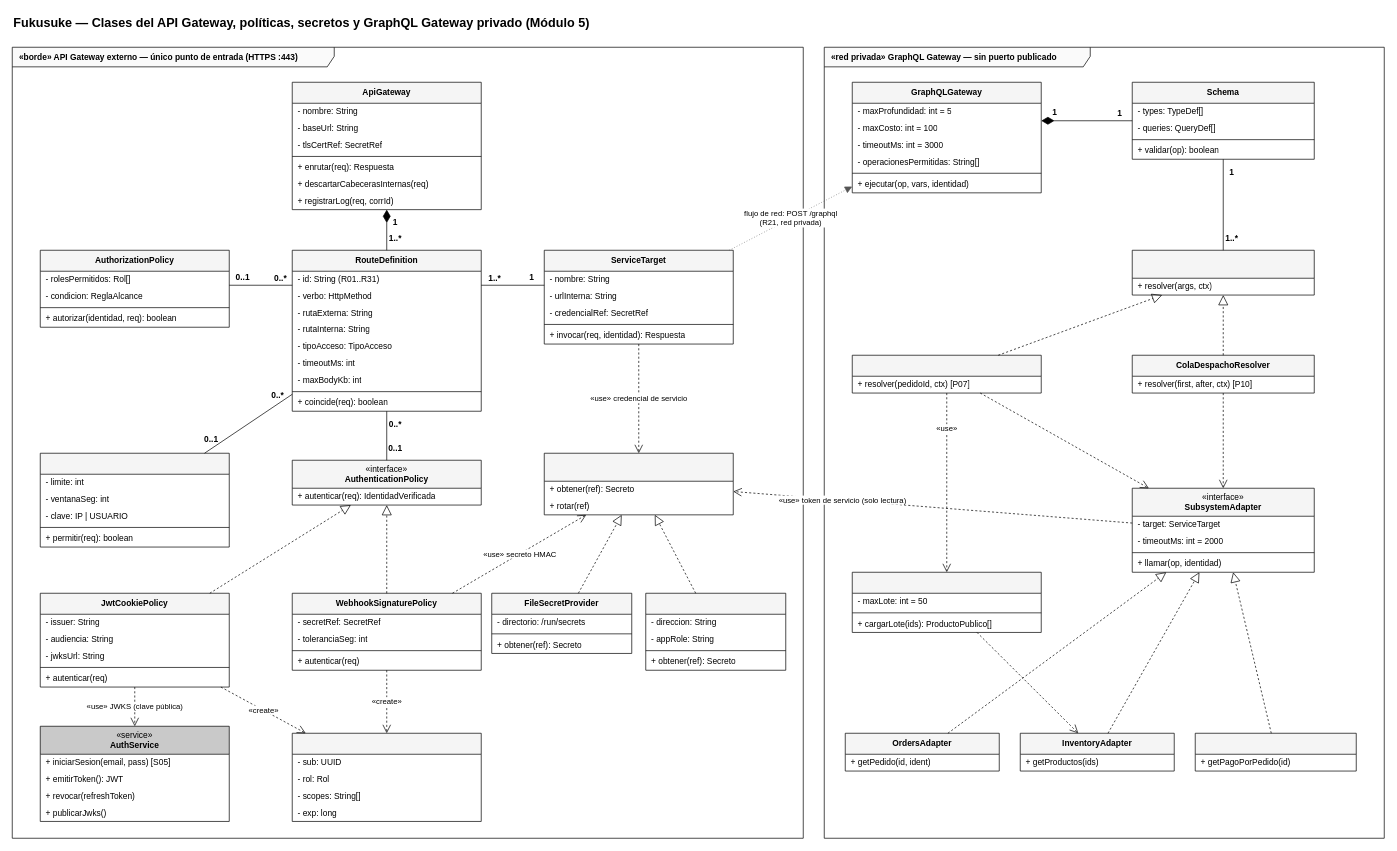
This 1397x851 diagram has some shape labels left out. Here are the shapes that lost their labels. From the top down, the box of each, then its label:
(1132, 250, 1314, 295): «interface» Resolver
(852, 355, 1041, 393): ResumenPedidoResolver
(40, 453, 229, 547): RateLimitPolicy
(544, 453, 733, 515): «interface» SecretProvider
(852, 572, 1041, 632): ProductoDataLoader
(645, 593, 786, 670): VaultSecretProvider
(1195, 733, 1356, 771): PaymentsAdapter
(292, 733, 481, 821): IdentidadVerificada
